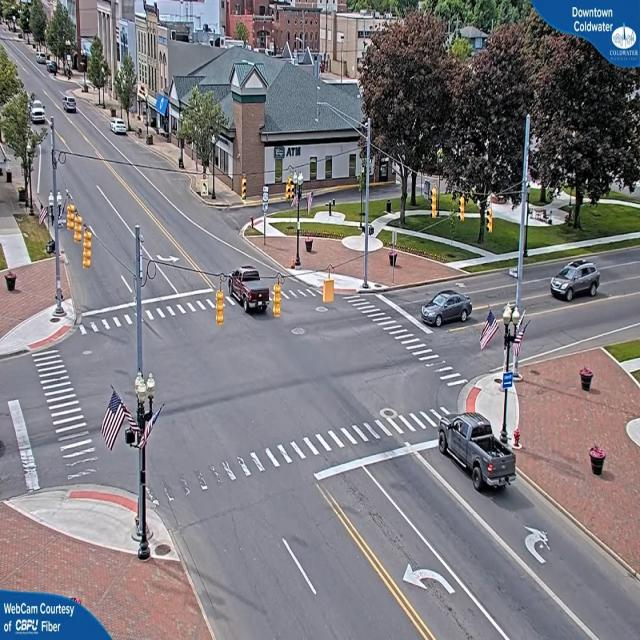car: (438, 413, 516, 495), (550, 260, 602, 304), (227, 266, 269, 314), (420, 290, 472, 328), (111, 119, 129, 136)
